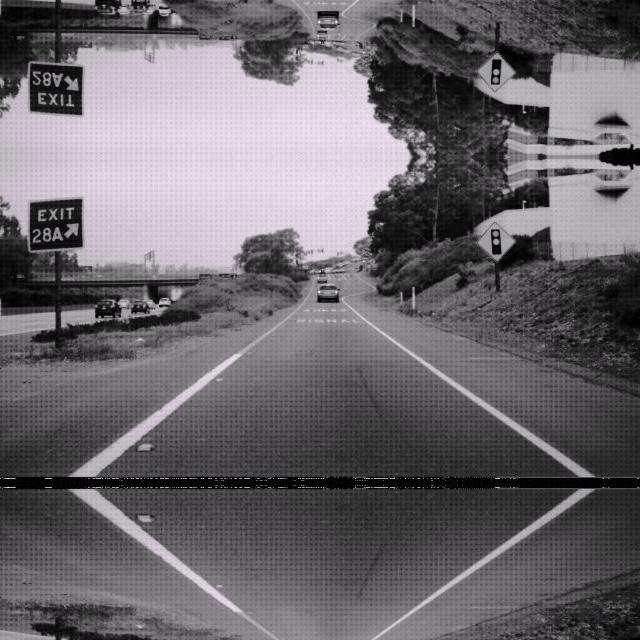signalAhead: (474, 220, 516, 260), (474, 52, 516, 92)
